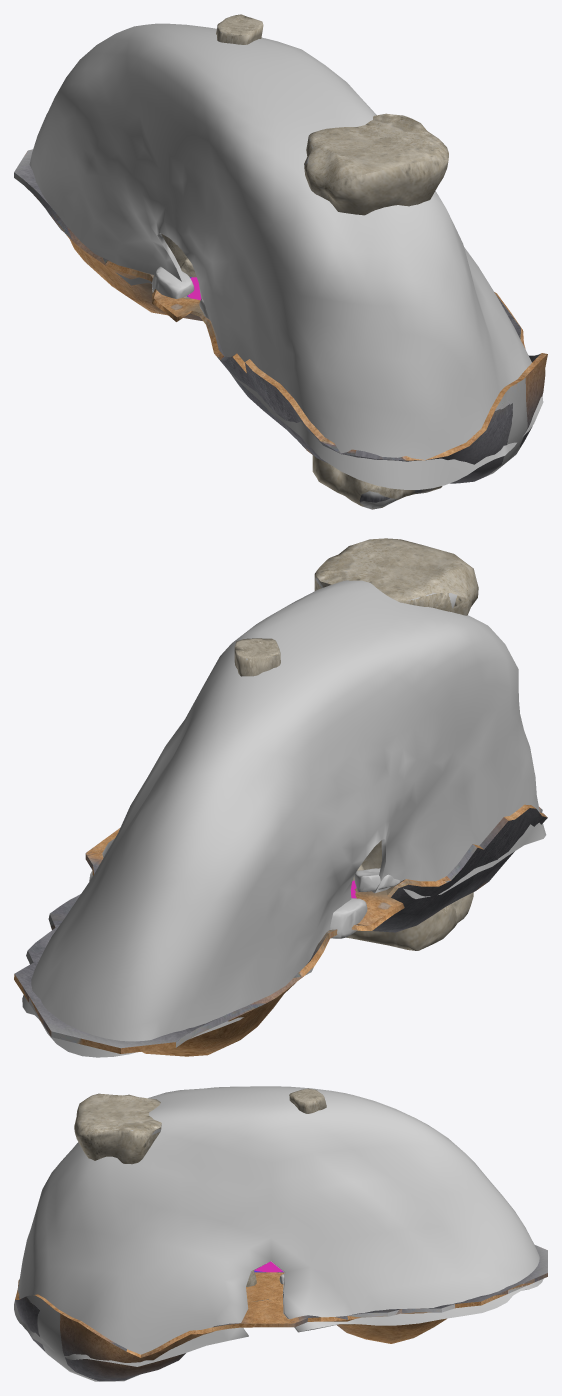
Rendered from Entance Cave Full.fbx.
3 renders of one model, top to bottom at view 1: azimuth 30°, elevation 25°; view 2: azimuth 150°, elevation 25°; view 3: azimuth 270°, elevation 25°, orthographic. The views are drawn at different scales.
Visible parts, largest first — view 1: Entrance Cave, pilar1.002, Enrance Floor, pilar2.002, smallrock3.002; view 2: Entrance Cave, Enrance Floor, pilar1.002, pilar2.002, smallrock3.002, smallrock5.002; view 3: Entrance Cave, Enrance Floor, pilar1.002, pilar2.002.
Part boxes in pixels (bbox=[...]): Entrance Cave: bbox=[29, 23, 543, 489]; pilar1.002: bbox=[304, 113, 448, 509]; Enrance Floor: bbox=[14, 149, 547, 483]; pilar2.002: bbox=[216, 14, 263, 44]; smallrock3.002: bbox=[151, 266, 194, 298]; Entrance Cave: bbox=[22, 580, 546, 1057]; Enrance Floor: bbox=[14, 804, 547, 1056]; pilar1.002: bbox=[314, 538, 478, 950]; pilar2.002: bbox=[234, 638, 280, 676]; smallrock3.002: bbox=[330, 898, 367, 938]; smallrock5.002: bbox=[354, 868, 400, 891]; Entrance Cave: bbox=[14, 1086, 543, 1366]; Enrance Floor: bbox=[15, 1245, 547, 1381]; pilar1.002: bbox=[74, 1093, 161, 1164]; pilar2.002: bbox=[289, 1088, 326, 1113].
Bounding box in the file's own units: 943 × 1112 × 2085.
